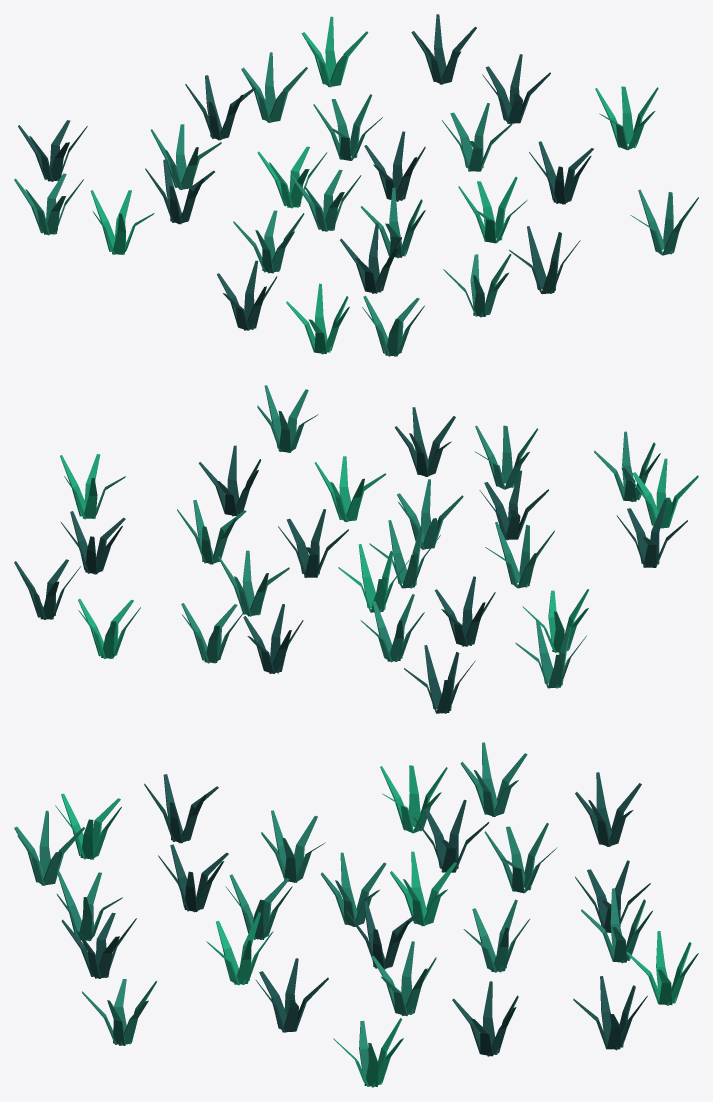
File: GrassPatches_001.fbx
3 renders of one model, top to bottom at view 1: azimuth 30°, elevation 25°; view 2: azimuth 150°, elevation 25°; view 3: azimuth 270°, elevation 25°, orthographic. The views are drawn at different scales.
Visible parts, largest first — view 1: GrassPatches; view 2: GrassPatches; view 3: GrassPatches.
Part boxes in pixels (left/top/right/bottom): GrassPatches: left=14, top=14, right=698, bottom=356; GrassPatches: left=14, top=385, right=698, bottom=713; GrassPatches: left=14, top=742, right=698, bottom=1087.
Bounding box in the file's own units: 490 × 42.35 × 472.
